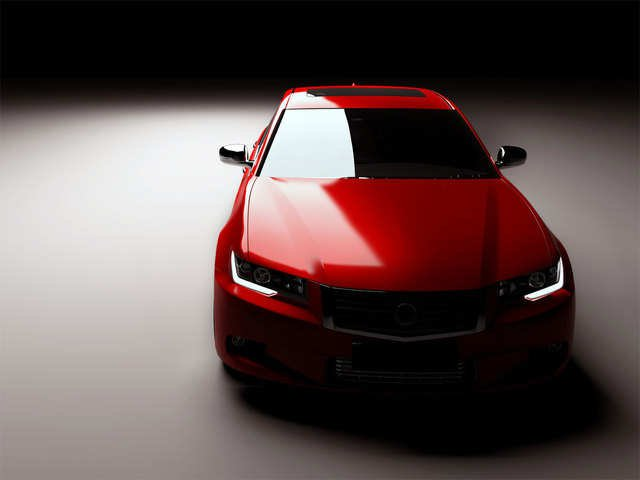car: (210, 81, 577, 424)
